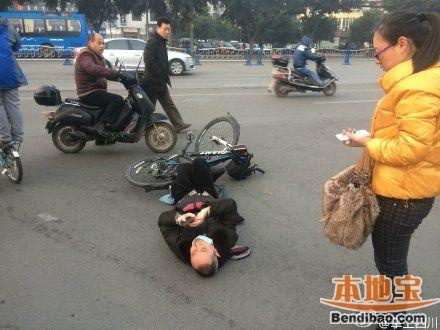falling: (148, 146, 255, 286)
